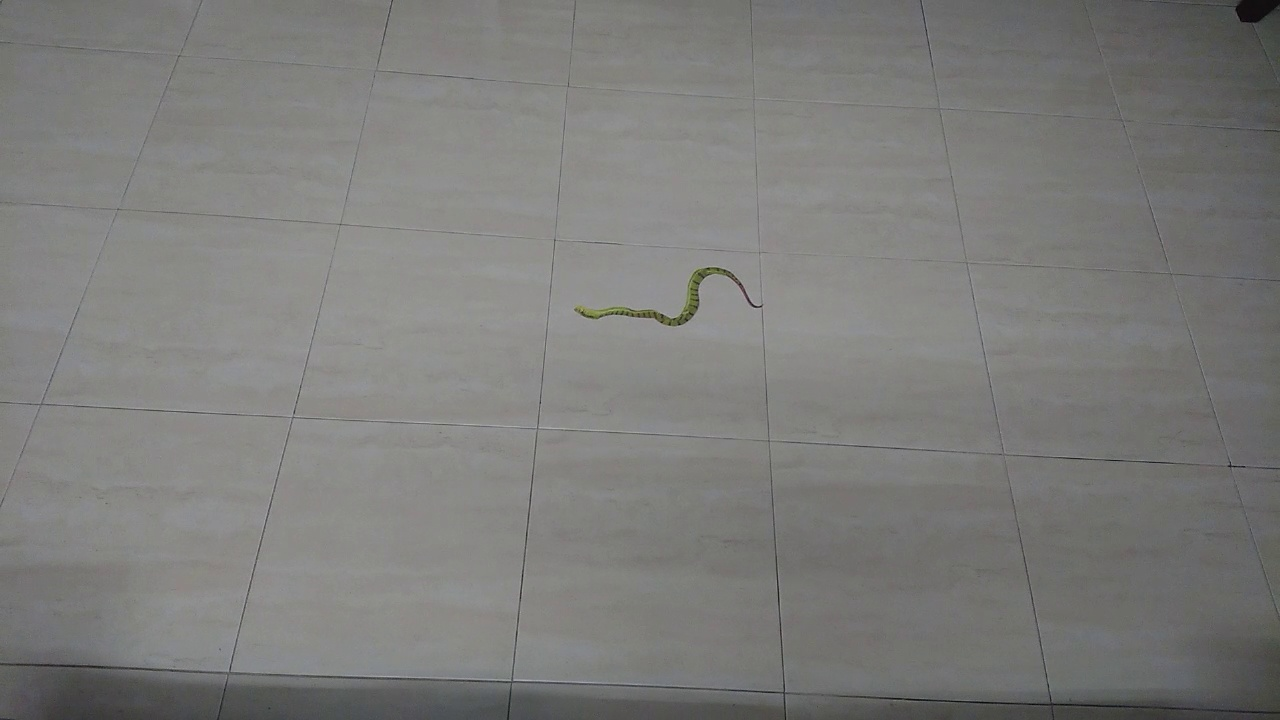snake: (555, 249, 773, 339)
